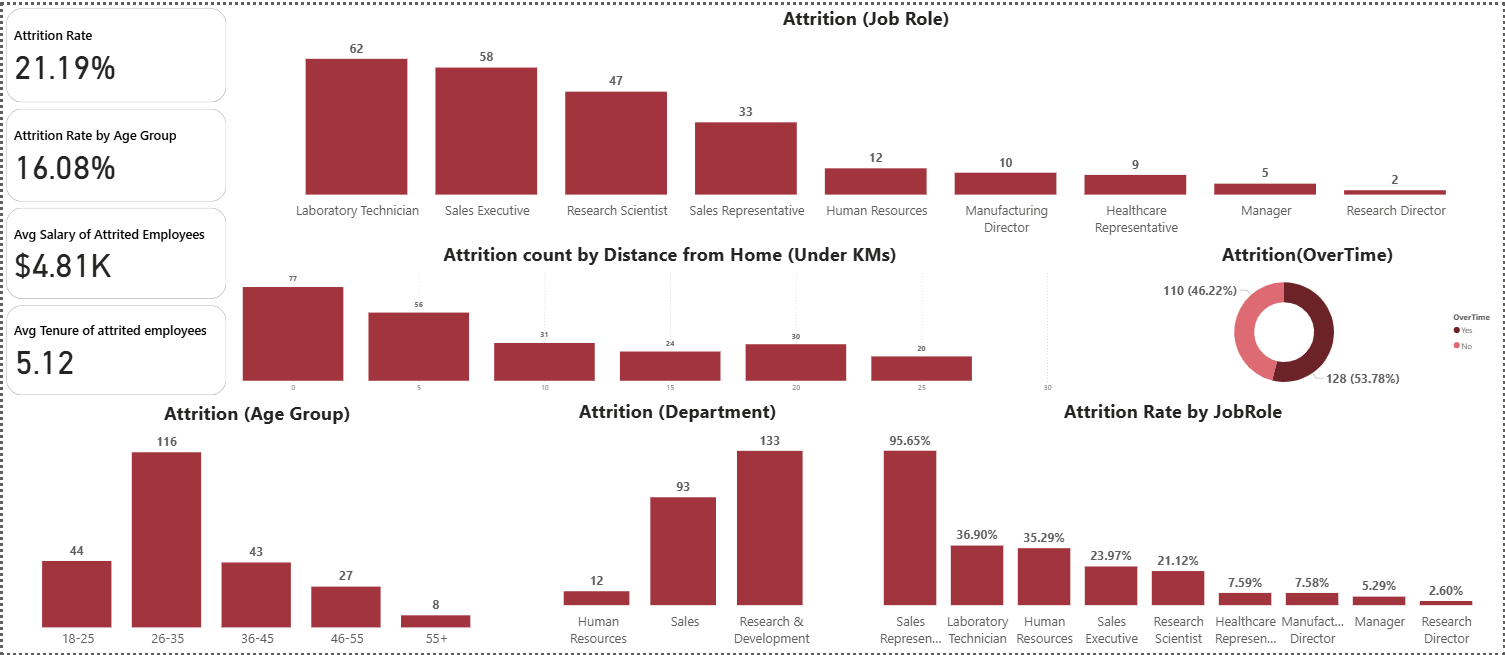

What the dashboard file says about the page in this screenshot:
{"tool":"powerbi","page":{"name":"Attrition Analysis","canvas":[2500,1080],"ordinal":1},"visuals":[{"type":"cardVisual","fields":{"Data":["HR_Analytics.Attrition Rate"]},"box":[0,0,377.5,167.5],"z":0},{"type":"cardVisual","fields":{"Data":["HR_Analytics.Attrition Rate by Age Group"]},"box":[0,167.5,377.5,165],"z":1000},{"type":"cardVisual","fields":{"Data":["HR_Analytics.Avg Salary of attrited employees"]},"box":[0,332.5,377.5,162.5],"z":2000},{"type":"cardVisual","fields":{"Data":["HR_Analytics.Avg Tenure of attrited employees"]},"box":[0,495,377.5,160],"z":3000},{"type":"columnChart","title":"Attrition (Job Role)","fields":{"Y":["HR_Analytics.Attrition count"],"Category":["HR_Analytics.JobRole"]},"box":[378,0,2122,392.7],"z":4000},{"type":"columnChart","title":"Attrition (Department)","fields":{"Y":["HR_Analytics.Attrition count"],"Category":["HR_Analytics.Department"]},"box":[846.3,656.1,553.7,422],"z":5000},{"type":"columnChart","title":"Attrition (Age Group)","fields":{"Y":["HR_Analytics.Attrition count"],"Category":["HR_Analytics.AgeGroup"]},"box":[0,657.5,847.5,422.5],"z":6000},{"type":"donutChart","title":"Attrition(OverTime)","fields":{"Category":["HR_Analytics.OverTime"],"Y":["HR_Analytics.Attrition count"]},"box":[1846.3,392.7,653.7,263.4],"z":7000},{"type":"columnChart","fields":{"Y":["HR_Analytics.Attrition count"],"Category":["HR_Analytics.Distance from Home (Under KMs)"]},"box":[378,392.7,1468.3,263.4],"z":8000},{"type":"columnChart","fields":{"Y":["HR_Analytics.Attrition Rate"],"Category":["HR_Analytics.JobRole"]},"box":[1400,656.1,1100,422],"z":9000}]}

Visuals, with their boxes in screenshot pixels (x1, y1, x2, y2), scaled from the page's 2500x1080 canvas onto the 1505x655 screenshot:
cardVisual - HR_Analytics.Attrition Rate: crop(0, 0, 227, 102)
cardVisual - HR_Analytics.Attrition Rate by Age Group: crop(0, 102, 227, 202)
cardVisual - HR_Analytics.Avg Salary of attrited employees: crop(0, 202, 227, 300)
cardVisual - HR_Analytics.Avg Tenure of attrited employees: crop(0, 300, 227, 397)
"Attrition (Job Role)" columnChart: crop(228, 0, 1504, 238)
"Attrition (Department)" columnChart: crop(509, 398, 843, 654)
"Attrition (Age Group)" columnChart: crop(0, 399, 510, 654)
"Attrition(OverTime)" donutChart: crop(1111, 238, 1504, 398)
columnChart - HR_Analytics.Attrition count x HR_Analytics.Distance from Home (Under KMs): crop(228, 238, 1111, 398)
columnChart - HR_Analytics.Attrition Rate x HR_Analytics.JobRole: crop(843, 398, 1504, 654)
